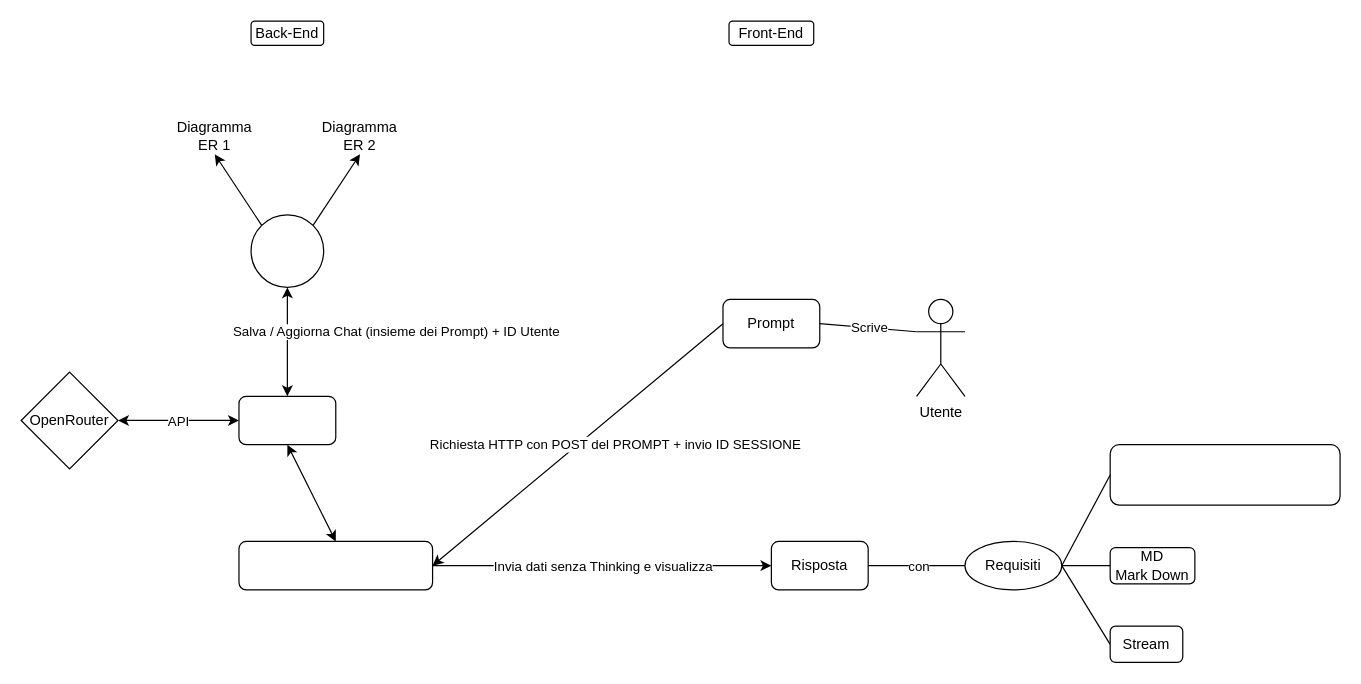
Image size: 1361x684. Some labels were removed from this diagram. Each missing label, with the box of its shape:
Codifica Immagini (decodifica BLOB ottenuto tramite richiesta HTTP al database): (1109, 443, 1340, 505)
Database: (250, 214, 324, 287)
IP Server: Porta Servizio: (238, 540, 433, 590)
Server: (238, 395, 336, 445)
